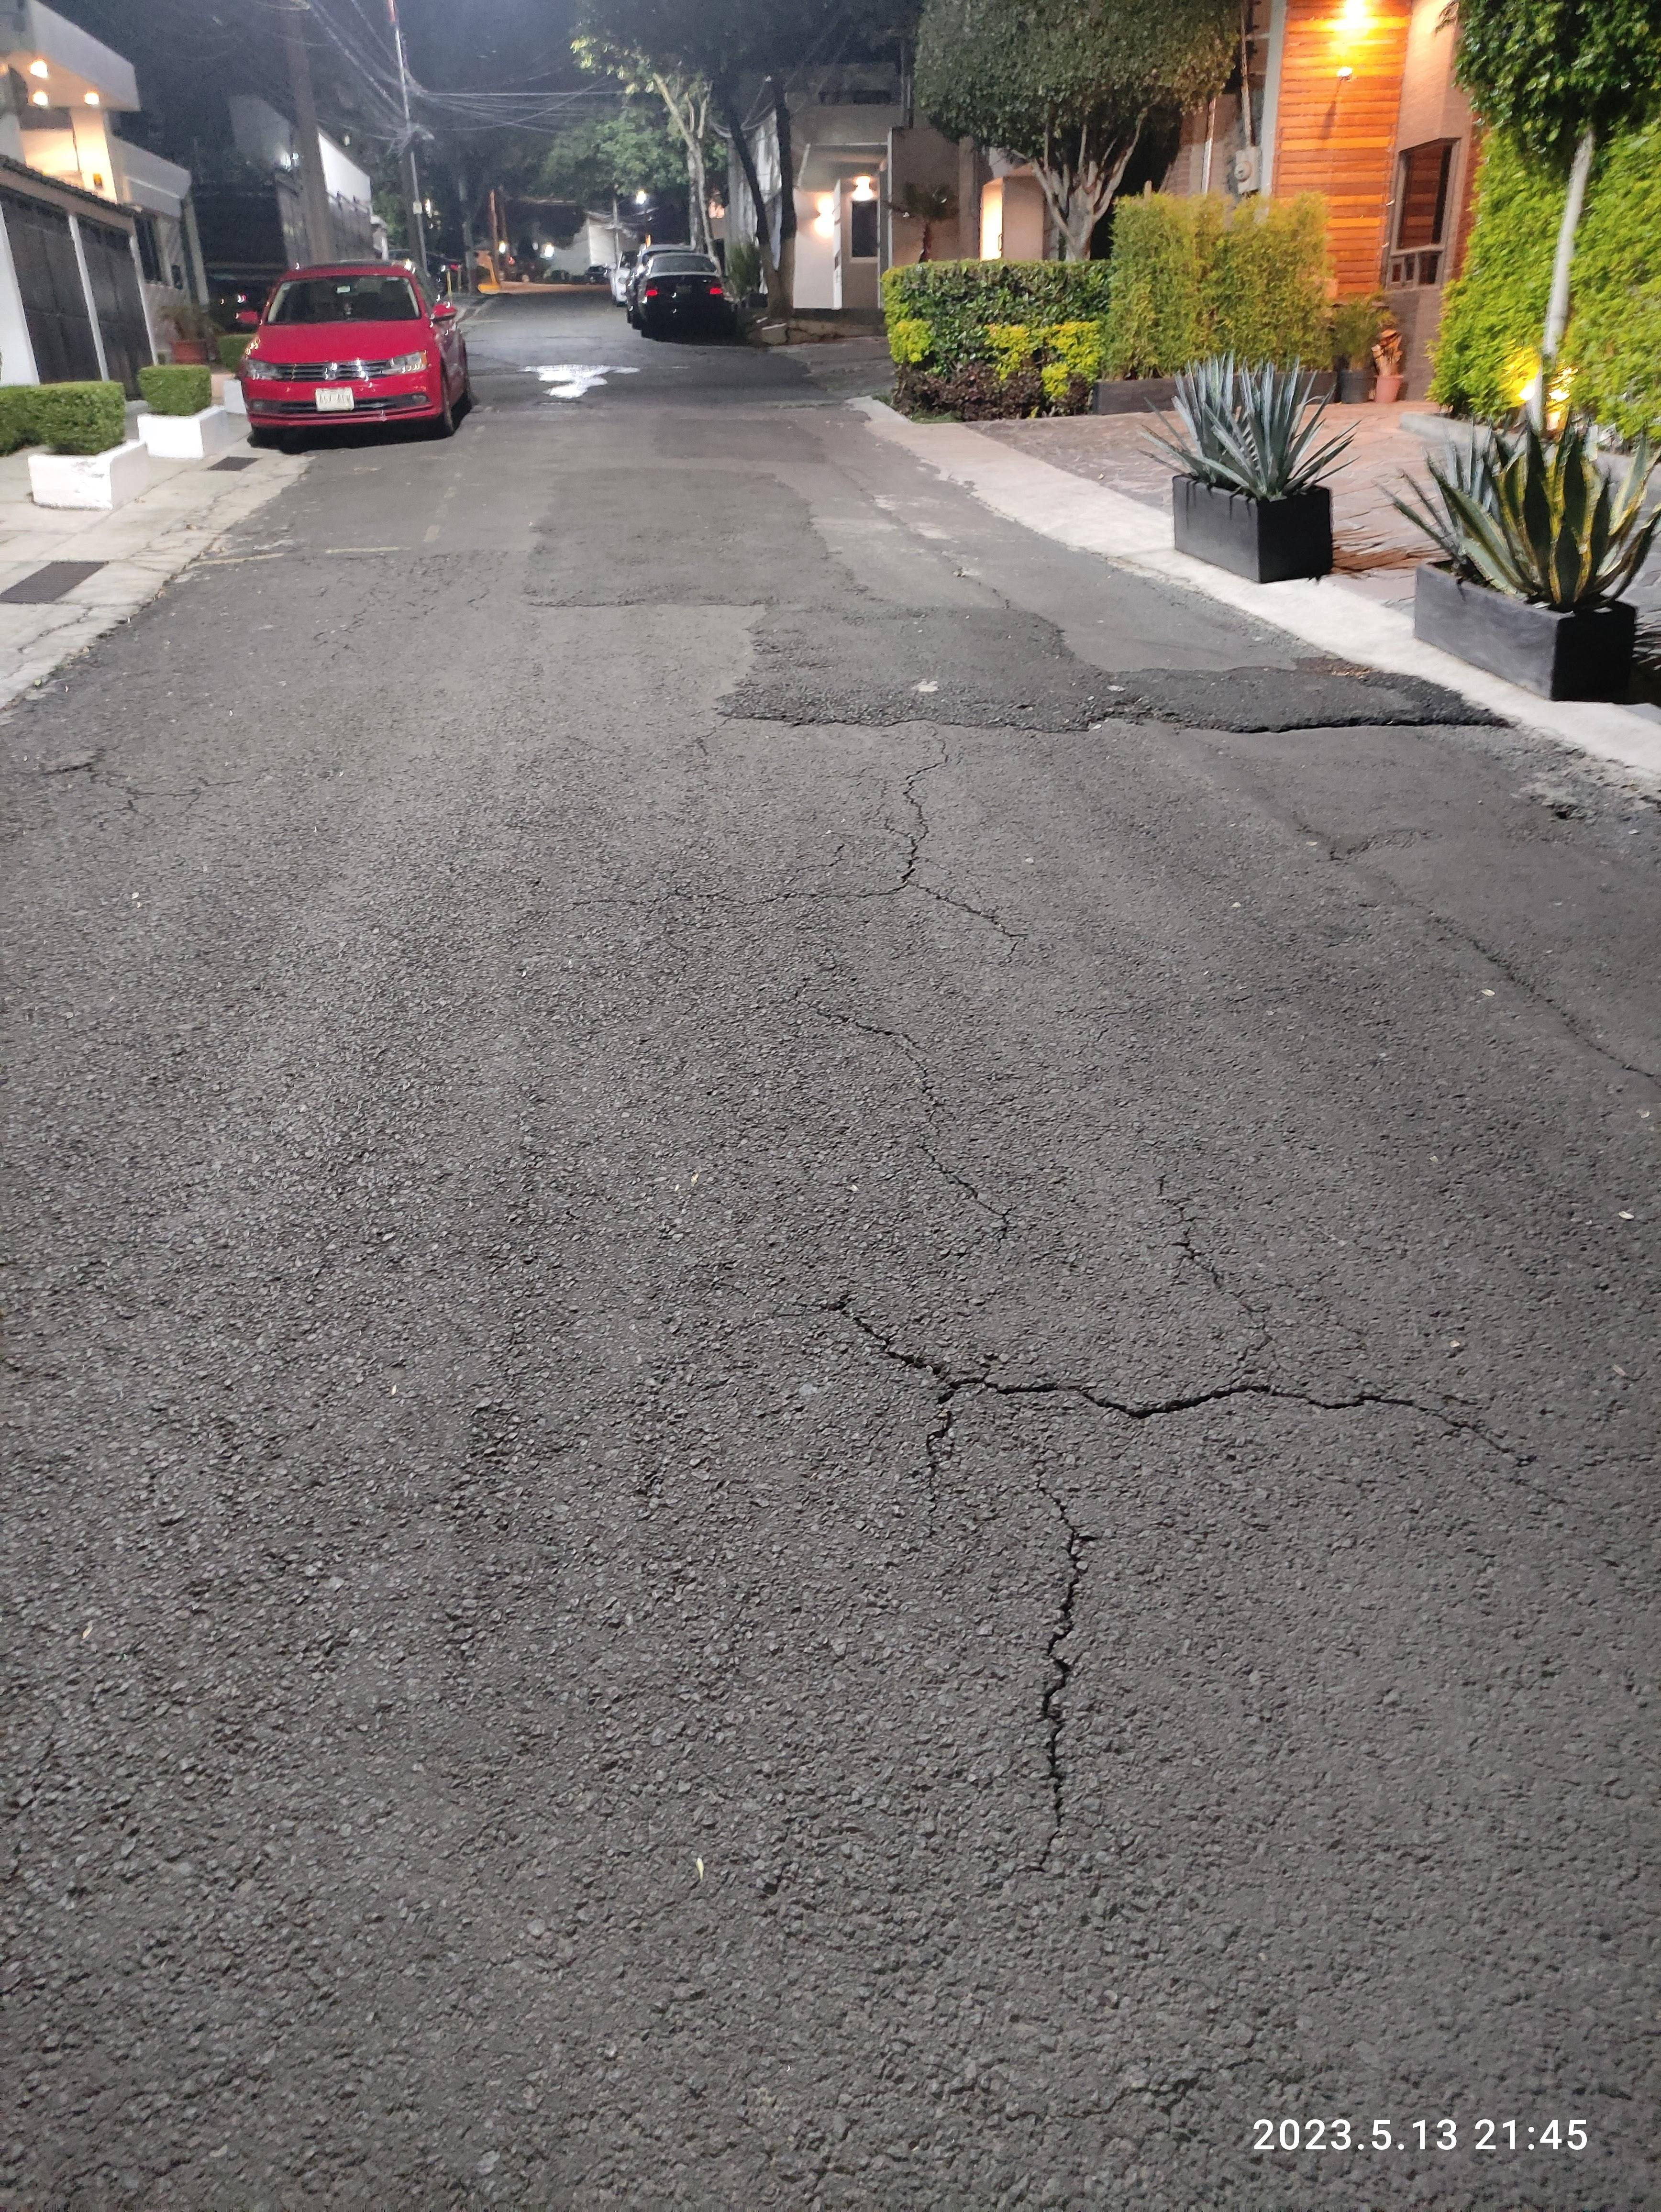crack: (804, 1235, 1642, 1867), (216, 1312, 429, 1690), (862, 766, 1141, 1005)
